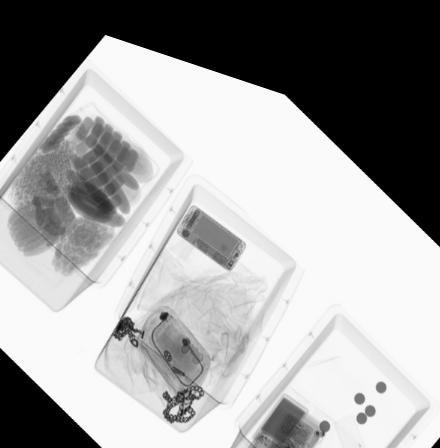Powerbank: (252, 374, 308, 437)
